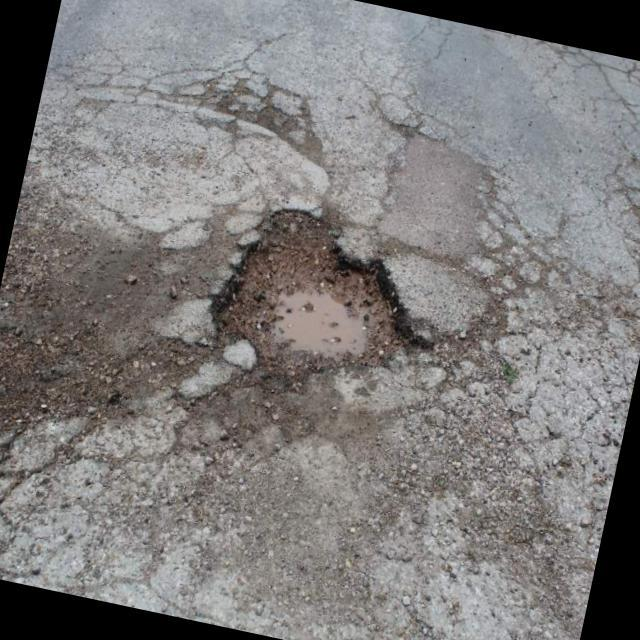Pothole: (195, 180, 450, 398), (0, 198, 175, 457)
